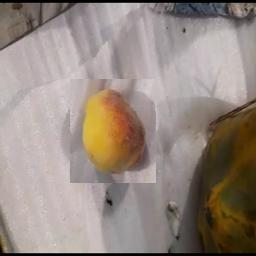Peach Semifresh: (71, 79, 157, 183)
